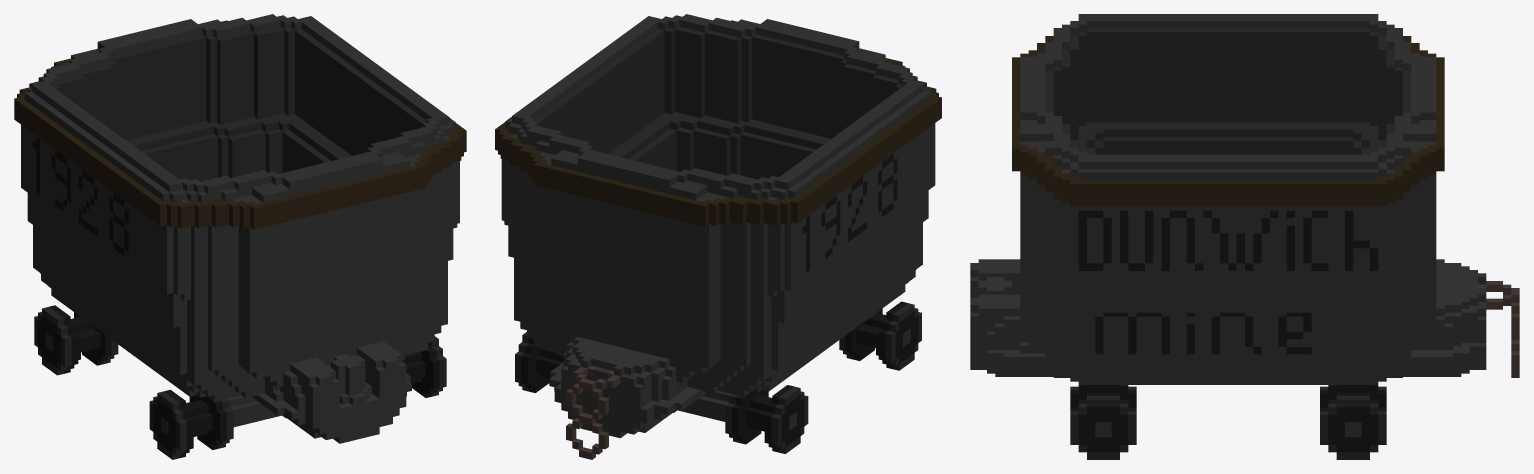
Rendered from trolley 1.obj.
3 renders of one model, left to right at view 1: azimuth 30°, elevation 25°; view 2: azimuth 150°, elevation 25°; view 3: azimuth 270°, elevation 25°, orthographic. The views are drawn at different scales.
Bounding box in the file's own units: 4.6 × 4 × 6.6.
1 material, 1 textured.
